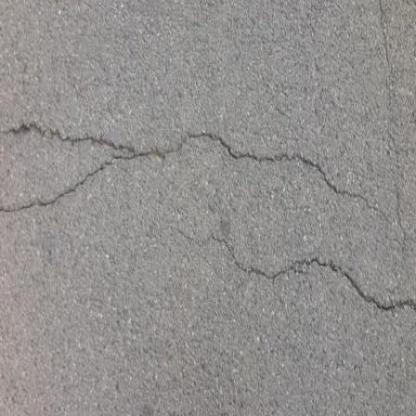Cracks: (1, 96, 394, 229), (188, 220, 416, 329), (376, 173, 416, 263)
